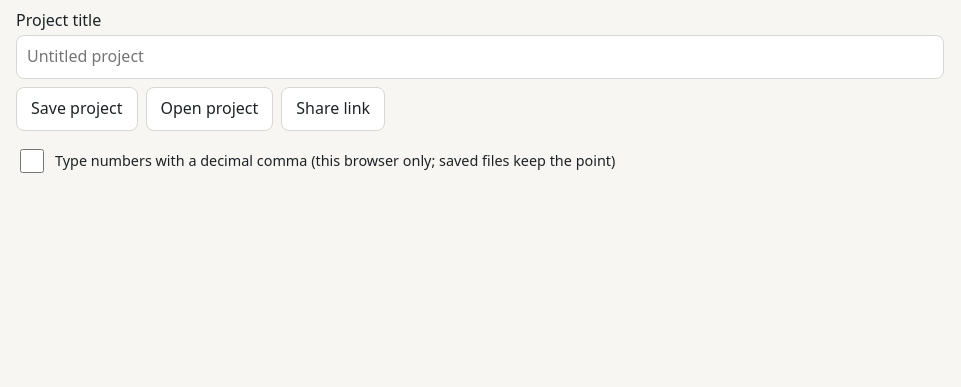
Scenario: project bar › Share link shows the link, or the reason when it is too long
Click the button "Share link" at (333, 109), box [281,87,385,131]
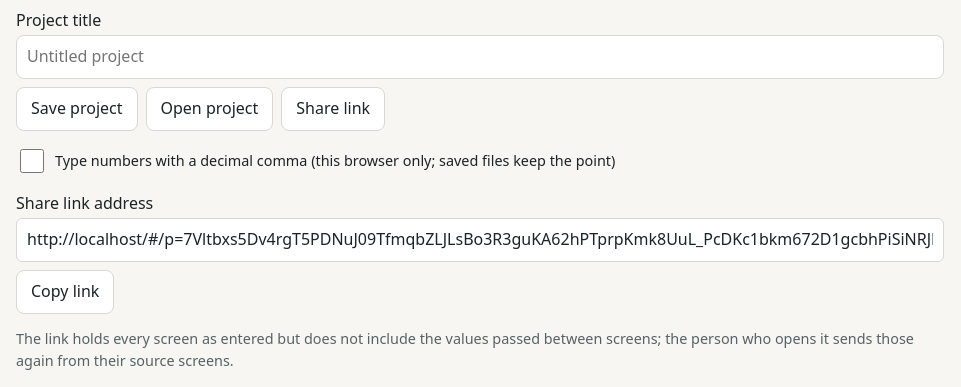
Result: the text "does not include the values passed between screens" is shown at [16,329,914,370]
Click the button "Share link" at (333, 109), box [281,87,385,131]
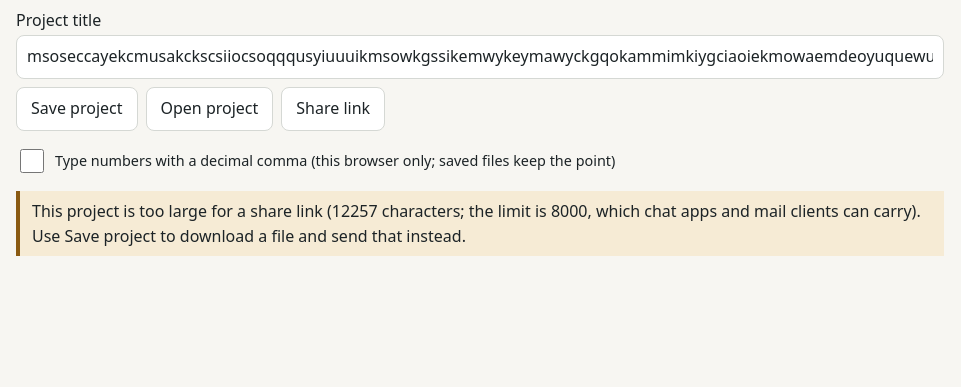
Result: the message shows "8000" at [32,200,921,247]
Result: the text labelled "Share link address" is gone
